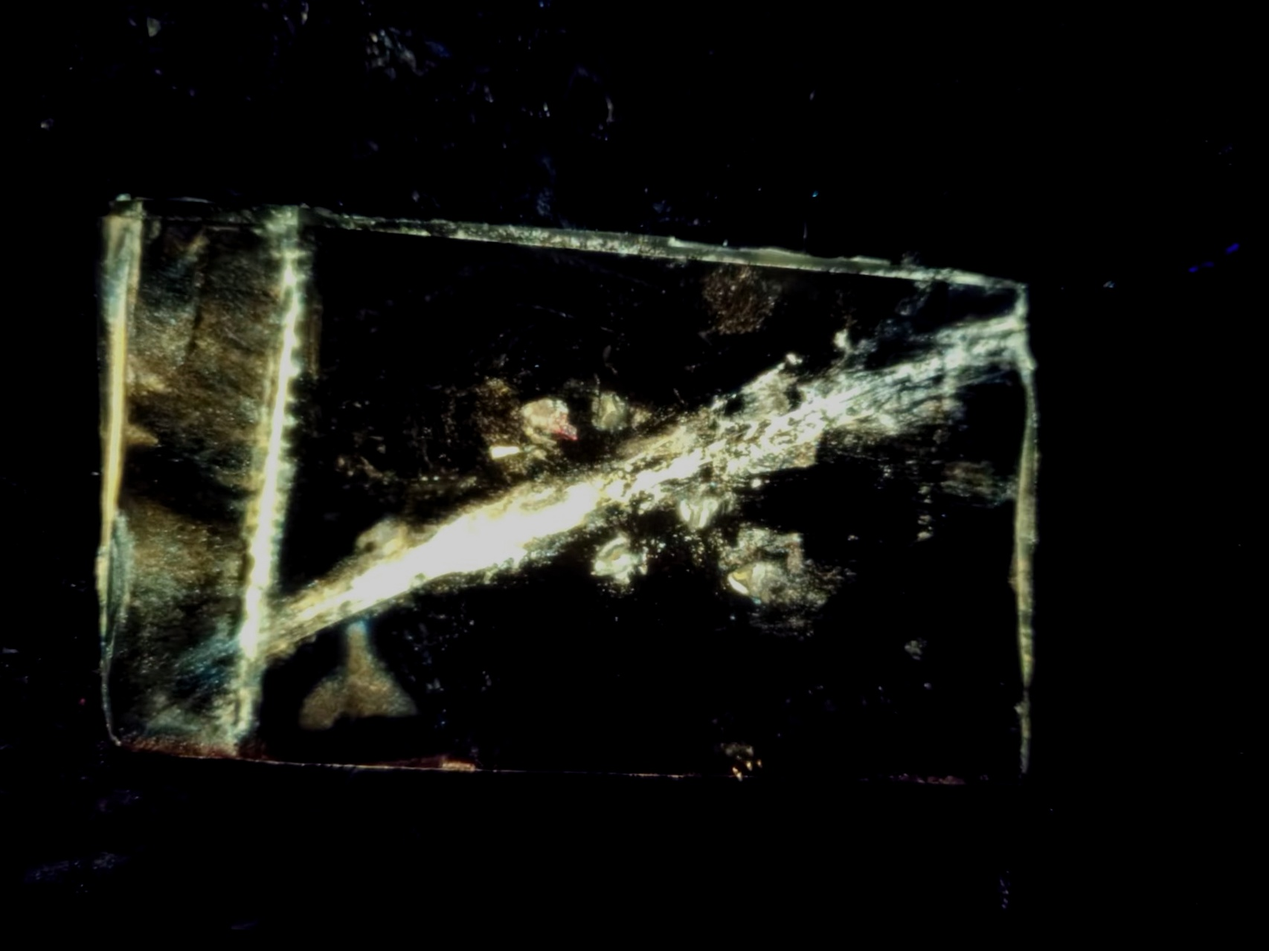Crater: (466, 365, 620, 471), (712, 519, 828, 614), (567, 516, 691, 603)
Fissure: (194, 234, 1073, 725), (186, 184, 338, 761)
